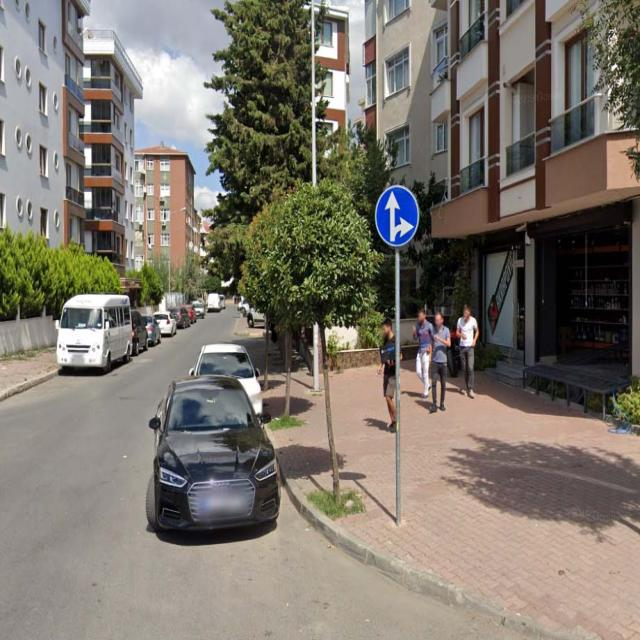ilerisag: (376, 187, 420, 246)
